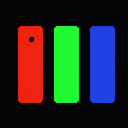0 point: (29, 37, 33, 41)
